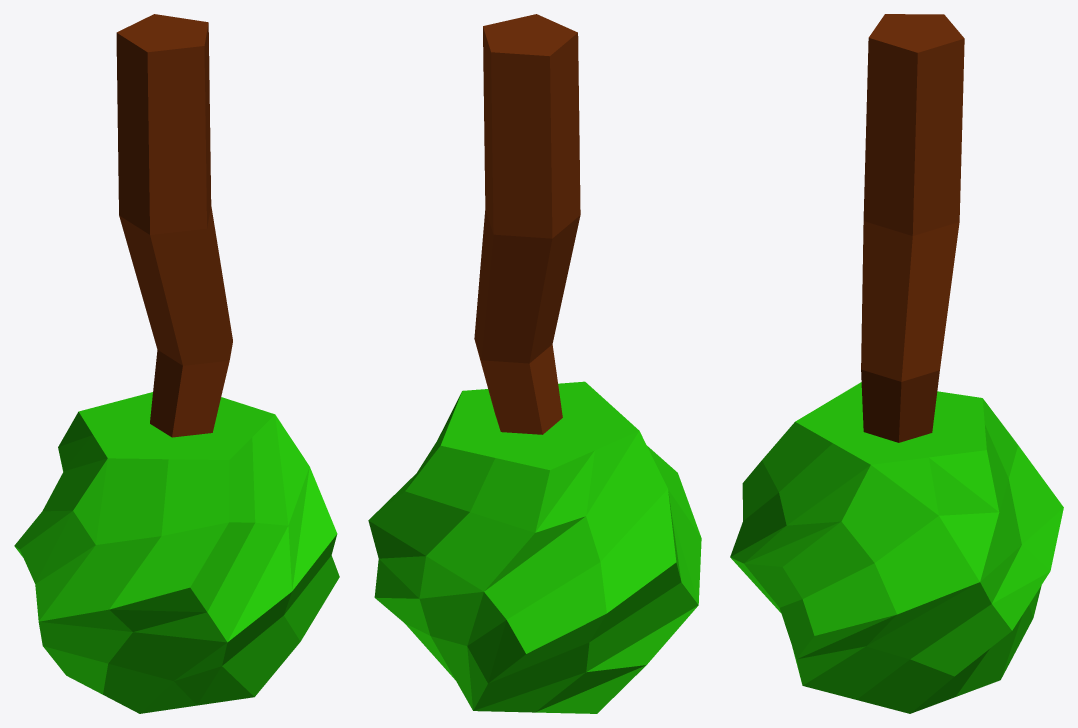
The model's file is tree1.fbx.
The picture shows the model from 3 angles, left to right: view 1: azimuth 30°, elevation 25°; view 2: azimuth 150°, elevation 25°; view 3: azimuth 270°, elevation 25°; orthographic projection.
Parts seen in each view (by area): view 1: Platonic, Cylinder; view 2: Platonic, Cylinder; view 3: Platonic, Cylinder.
Boxes of the visible parts, x1=… form: Platonic: x1=14, y1=392, x2=339, y2=713; Cylinder: x1=116, y1=14, x2=232, y2=437; Platonic: x1=368, y1=381, x2=701, y2=713; Cylinder: x1=474, y1=14, x2=580, y2=434; Platonic: x1=730, y1=382, x2=1063, y2=713; Cylinder: x1=861, y1=14, x2=964, y2=442.
Bounding box in the file's own units: 327 × 703 × 330.
